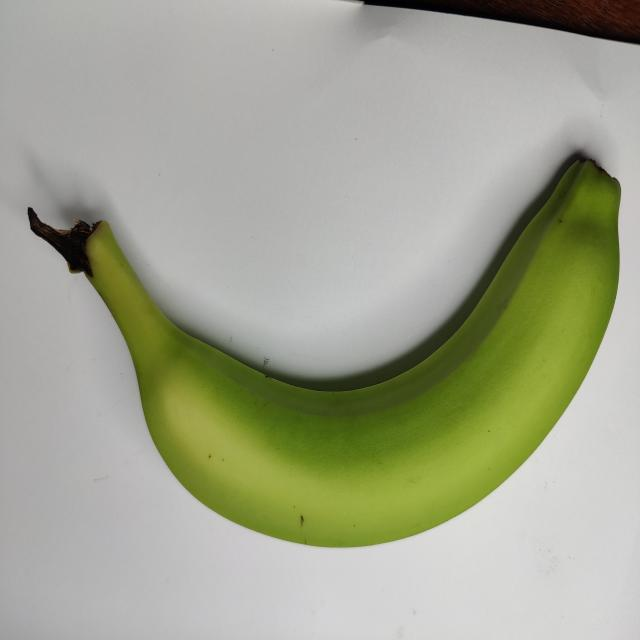raw: (29, 79, 633, 552)
